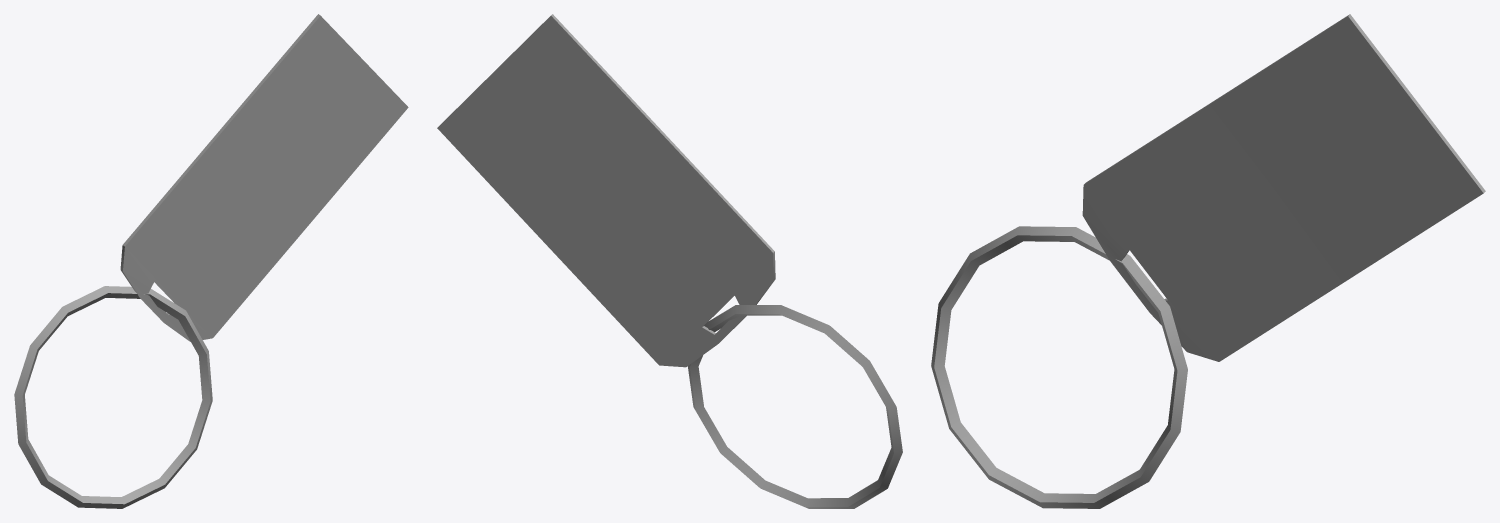
The model's file is MeshKeychain3_0_GeomSubset_2.obj.
3 views of the same model, side by side, from view 1: azimuth 30°, elevation 25°; view 2: azimuth 150°, elevation 25°; view 3: azimuth 330°, elevation 25° (orthographic). The views are drawn at different scales.
Parts seen in each view (by area): view 1: MeshKeychain3_0_GeomSubset_2; view 2: MeshKeychain3_0_GeomSubset_2; view 3: MeshKeychain3_0_GeomSubset_2.
Part boxes in pixels (box(x1,y1,x2,y2)): MeshKeychain3_0_GeomSubset_2: box(14, 14, 408, 508); MeshKeychain3_0_GeomSubset_2: box(437, 14, 902, 508); MeshKeychain3_0_GeomSubset_2: box(931, 14, 1485, 508).
Size of the model in its own units: 0.0558 by 0.055 by 0.00809.
1 material, 1 textured.
